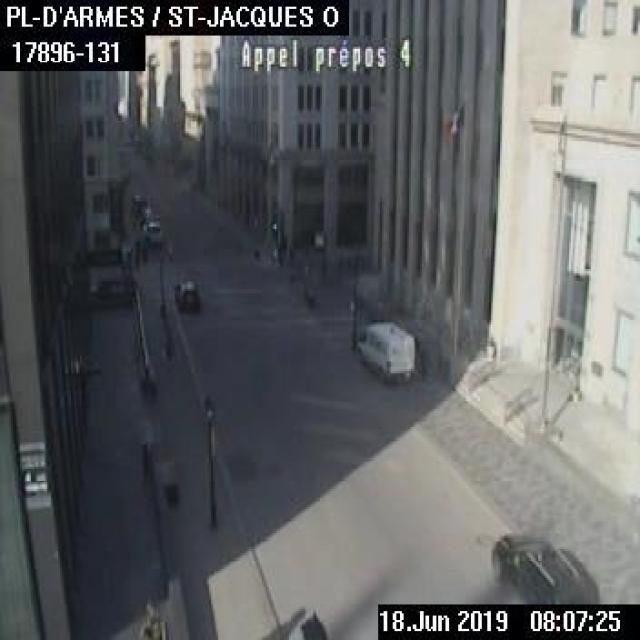vehicle: (487, 524, 598, 602), (355, 320, 413, 382), (172, 278, 198, 310), (140, 218, 161, 242)
